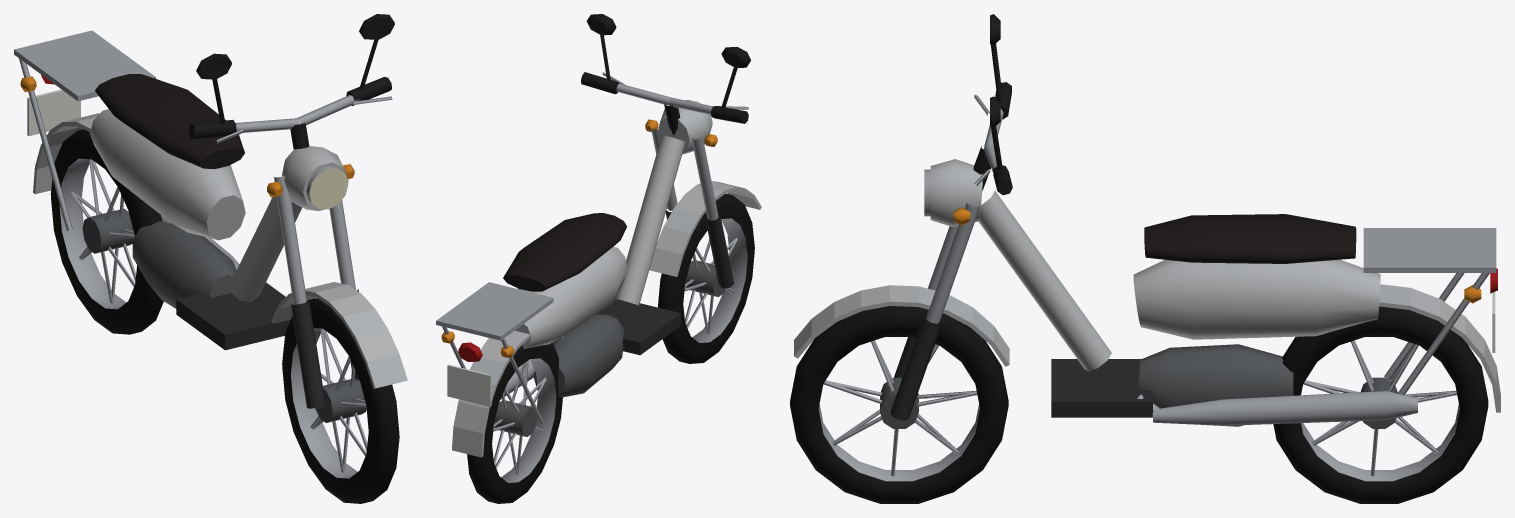
Rendered from moped.glb.
The picture shows the model from 3 angles, left to right: view 1: azimuth 30°, elevation 25°; view 2: azimuth 150°, elevation 25°; view 3: azimuth 270°, elevation 25°; orthographic projection. The views are drawn at different scales.
Parts seen in each view (by area): view 1: moped; view 2: moped; view 3: moped.
Part boxes in pixels (x1,y1,x2,y2): moped: (14, 14, 407, 503); moped: (436, 14, 761, 503); moped: (790, 14, 1500, 503).
Size of the model in its own units: 0.61 by 1.25 by 1.82.
